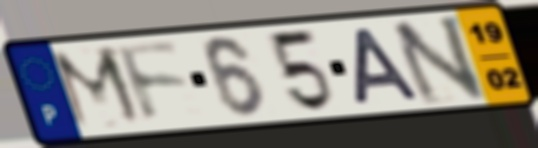5: (260, 28, 335, 114)
6: (202, 34, 269, 120)
A: (353, 25, 425, 107)
F: (112, 40, 194, 127)
M: (45, 44, 150, 133)
N: (387, 12, 491, 109)
